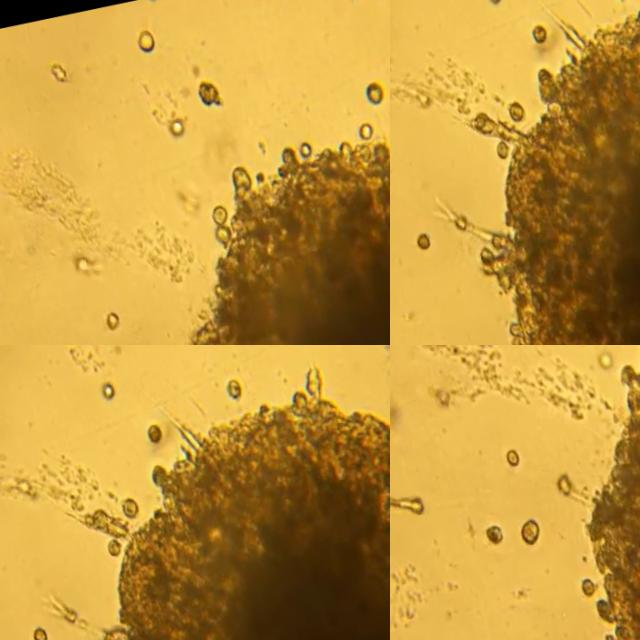cell: (194, 79, 224, 106), (390, 495, 425, 513), (520, 515, 538, 542), (364, 77, 383, 102), (144, 420, 164, 442), (48, 62, 70, 81), (507, 99, 526, 120), (136, 28, 154, 49), (579, 573, 594, 596), (530, 23, 547, 43), (123, 494, 139, 515), (98, 379, 113, 400), (484, 525, 501, 543), (416, 230, 431, 250), (226, 376, 241, 396), (556, 470, 569, 493), (503, 447, 520, 464), (495, 139, 507, 162), (107, 536, 120, 555), (32, 625, 47, 640), (596, 350, 613, 362), (106, 309, 117, 326)
tumor_mass: (431, 0, 640, 345), (187, 116, 390, 345)
